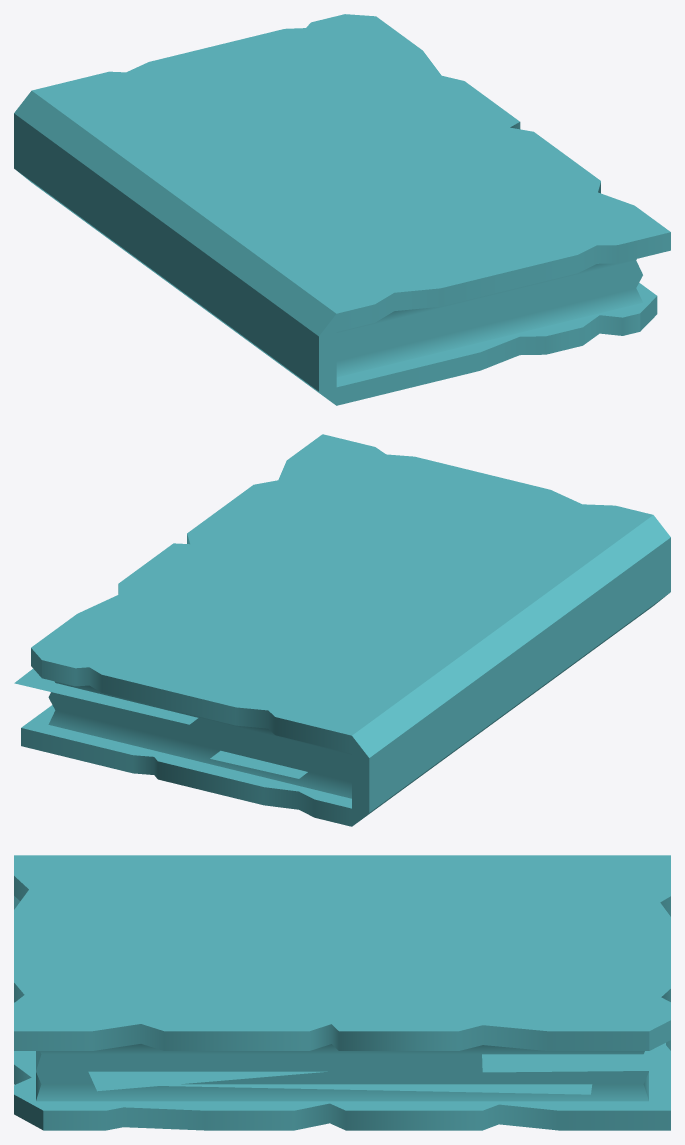
The model's file is SM_Journal.fbx.
3 renders of one model, top to bottom at view 1: azimuth 30°, elevation 25°; view 2: azimuth 150°, elevation 25°; view 3: azimuth 270°, elevation 25°, orthographic. The views are drawn at different scales.
Parts seen in each view (by area): view 1: Journal; view 2: Journal, Tabs; view 3: Journal, Tabs.
Part boxes in pixels (<box>): Journal: <box>14,14,670,405</box>; Journal: <box>21,434,670,826</box>; Tabs: <box>14,668,307,778</box>; Journal: <box>14,855,670,1130</box>; Tabs: <box>88,1043,666,1094</box>.
Bounding box in the file's own units: 21.11 × 5 × 30.
